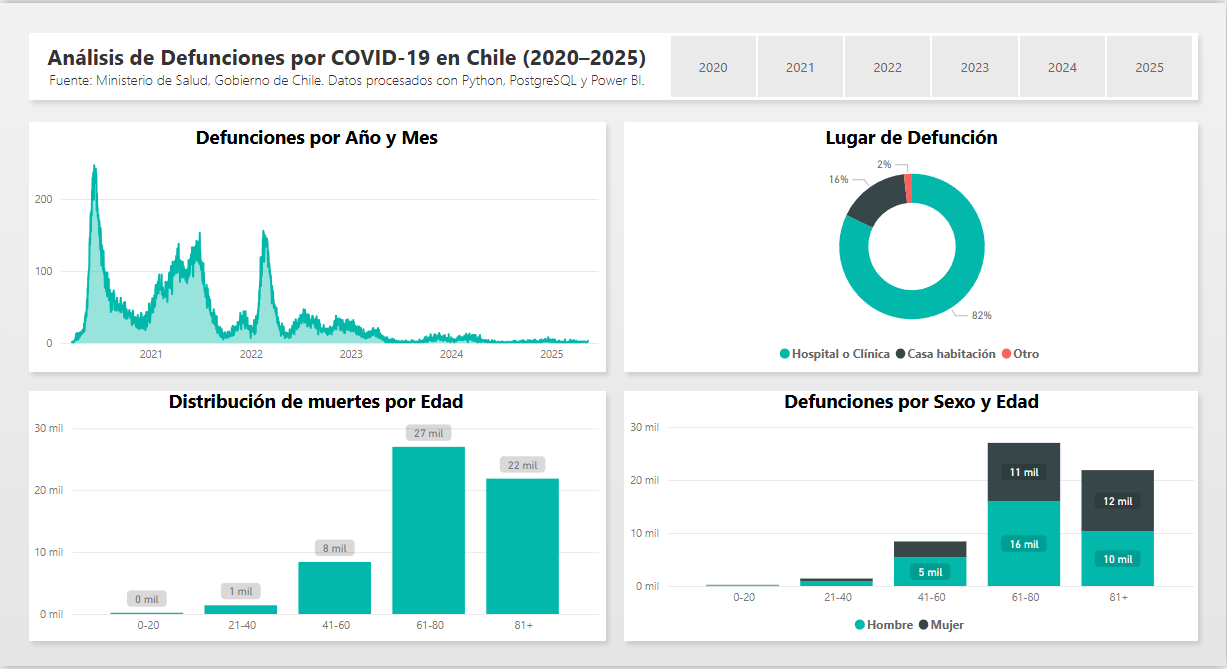

This screenshot's page, from the dashboard's own definition file:
{"tool":"powerbi","page":{"name":"Página 1","canvas":[1280,720],"ordinal":0},"visuals":[{"type":"stackedAreaChart","title":"Defunciones por Año y Mes","fields":{"Category":["public defunciones_covid.fecha_def"],"Y":["CountNonNull(public defunciones_covid.año)"]},"box":[57.2,146,575.7,248],"z":2},{"type":"donutChart","title":"Lugar de Defunción","fields":{"Category":["public defunciones_covid.lugar_defuncion"],"Y":["CountNonNull(public defunciones_covid.año)"]},"box":[653.3,146,573.7,248],"z":4},{"type":"columnChart","title":"Defunciones por Sexo y Edad","fields":{"Category":["defunciones_covid.grupo_edad"],"Series":["public defunciones_covid.sexo"],"Y":["CountNonNull(public defunciones_covid.año)"]},"box":[653,410,574,255],"z":5},{"type":"clusteredColumnChart","title":"Distribución de muertes por Edad","fields":{"Y":["CountNonNull(public defunciones_covid.año)"],"Category":["defunciones_covid.grupo_edad"]},"box":[56.7,409.5,575.4,255.2],"z":6},{"type":"textbox","box":[56.7,58.8,637.4,59.9],"z":7},{"type":"slicer","fields":{"Values":["public defunciones_covid.año"]},"box":[673.1,51.5,572.3,74.6],"z":8}]}

Visuals, with their boxes on the page's 1280x720 design canvas (x1, y1, x2, y2). These are canvas units, not pixel positions in the 1227x669 screenshot, which may show the page scaled, cropped or inside an application window:
"Defunciones por Año y Mes" stackedAreaChart: crop(57, 146, 633, 394)
"Lugar de Defunción" donutChart: crop(653, 146, 1227, 394)
"Defunciones por Sexo y Edad" columnChart: crop(653, 410, 1227, 665)
"Distribución de muertes por Edad" clusteredColumnChart: crop(57, 410, 632, 665)
textbox: crop(57, 59, 694, 119)
slicer - public defunciones_covid.año: crop(673, 52, 1245, 126)
